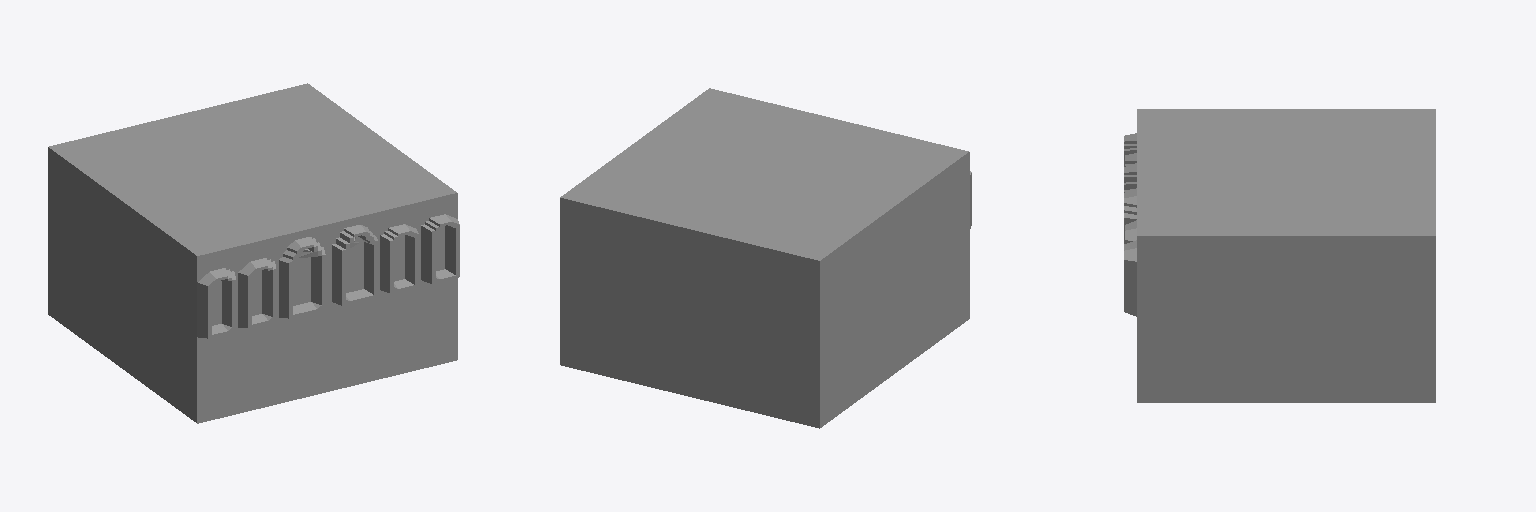
The model's file is palace1.obj.
3 views of the same model, side by side, from view 1: azimuth 30°, elevation 25°; view 2: azimuth 150°, elevation 25°; view 3: azimuth 270°, elevation 25° (orthographic).
Visible parts, largest first — view 1: Cube; view 2: Cube; view 3: Cube.
Boxes of the visible parts, x1=… form: Cube: x1=48, y1=83, x2=459, y2=423; Cube: x1=560, y1=88, x2=971, y2=428; Cube: x1=1124, y1=109, x2=1435, y2=402.
Size of the model in its own units: 9.13 by 5.62 by 9.49.